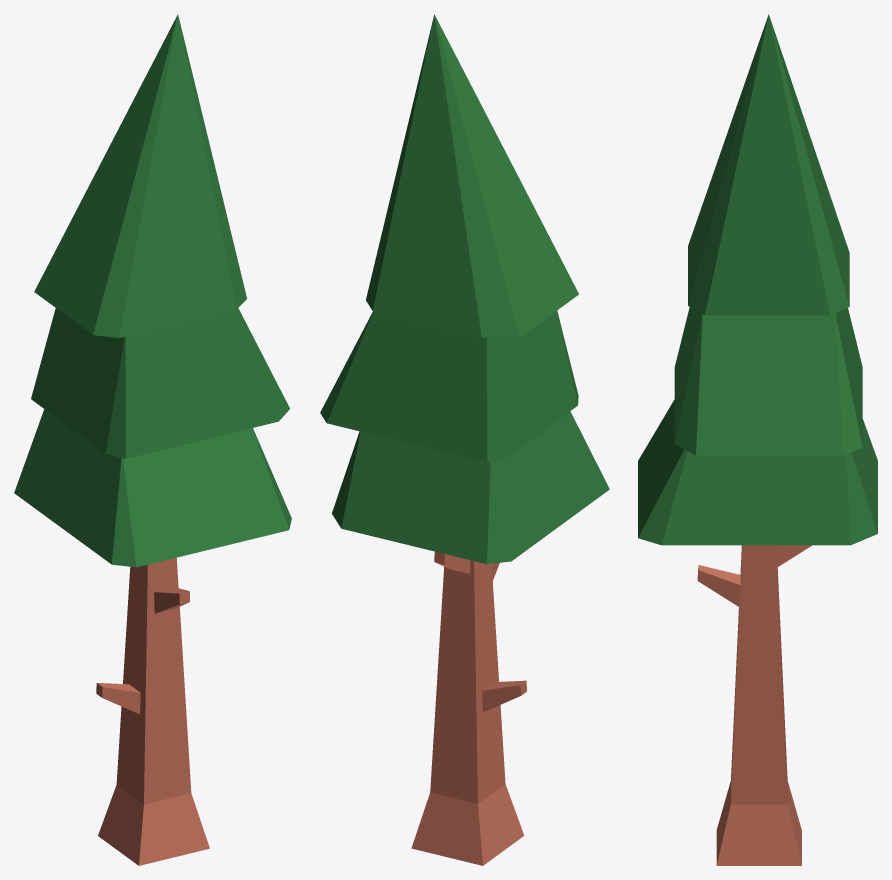
The model's file is tree_pineTallA_detailed.glb.
3 renders of one model, left to right at view 1: azimuth 30°, elevation 25°; view 2: azimuth 150°, elevation 25°; view 3: azimuth 270°, elevation 25°, orthographic. The views are drawn at different scales.
Visible parts, largest first — view 1: tree_pineTallA_detailed; view 2: tree_pineTallA_detailed; view 3: tree_pineTallA_detailed.
Boxes of the visible parts, x1,y1,x2,y2 form: tree_pineTallA_detailed: [14, 14, 291, 865]; tree_pineTallA_detailed: [320, 14, 609, 865]; tree_pineTallA_detailed: [638, 14, 877, 865].
Bounding box in the file's own units: 0.3863 × 1.53 × 0.392.
